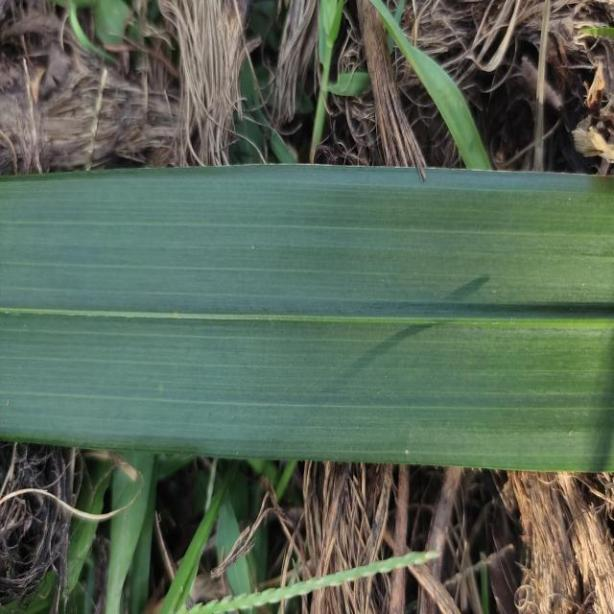Healthy: (3, 166, 614, 473)
